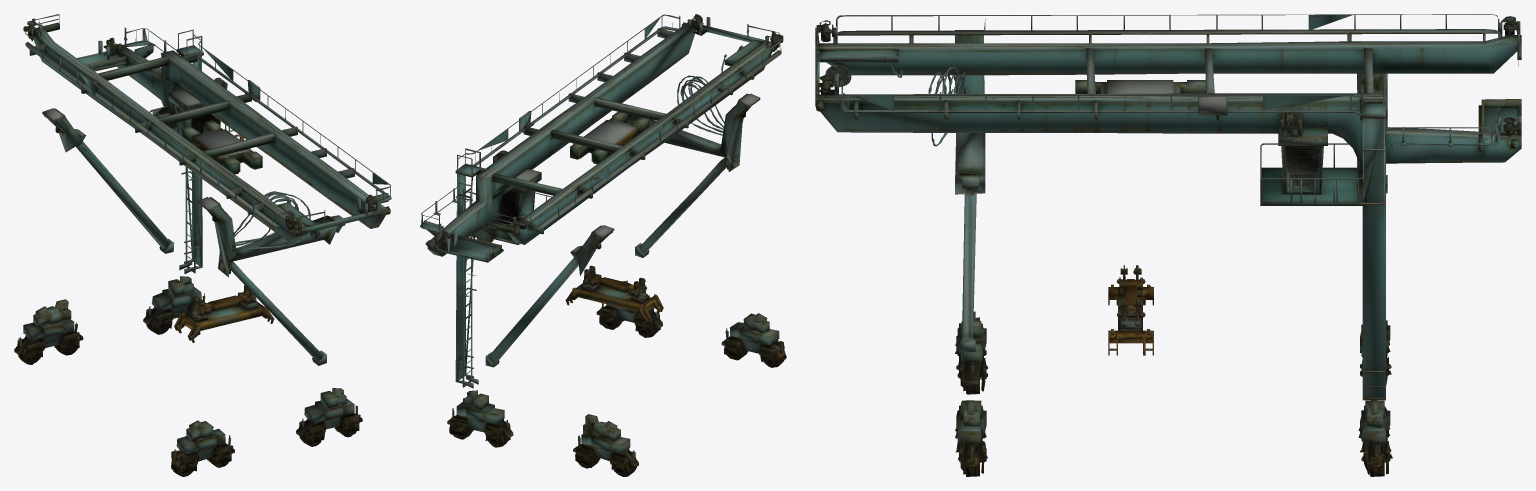
The model's file is gantryCrane.glb.
3 renders of one model, left to right at view 1: azimuth 30°, elevation 25°; view 2: azimuth 150°, elevation 25°; view 3: azimuth 270°, elevation 25°, orthographic. The views are drawn at different scales.
Parts seen in each view (by area): view 1: tripo_node_c583760d-4173-4d3d-accf-711c7b1bb8c7; view 2: tripo_node_c583760d-4173-4d3d-accf-711c7b1bb8c7; view 3: tripo_node_c583760d-4173-4d3d-accf-711c7b1bb8c7.
Part boxes in pixels (x1,y1,x2,y2): tripo_node_c583760d-4173-4d3d-accf-711c7b1bb8c7: [14, 14, 391, 476]; tripo_node_c583760d-4173-4d3d-accf-711c7b1bb8c7: [420, 14, 786, 476]; tripo_node_c583760d-4173-4d3d-accf-711c7b1bb8c7: [815, 14, 1521, 476].
Bounding box in the file's own units: 0.4121 × 0.5996 × 0.998.
Materials: 1 (1 with a texture image).
